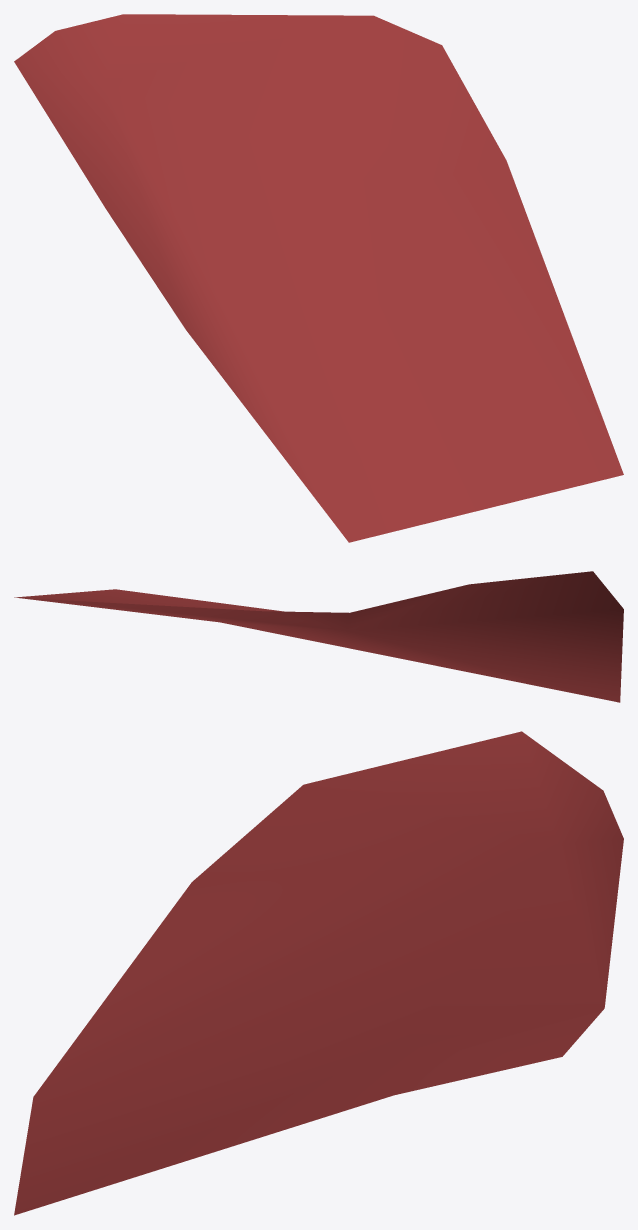
The model's file is extensor-indicis-er.glb.
3 renders of one model, top to bottom at view 1: azimuth 30°, elevation 25°; view 2: azimuth 150°, elevation 25°; view 3: azimuth 270°, elevation 25°, orthographic. The views are drawn at different scales.
Visible parts, largest first — view 1: Extensor indicis.er; view 2: Extensor indicis.er; view 3: Extensor indicis.er.
Boxes of the visible parts, bbox=[...] form: Extensor indicis.er: bbox=[14, 14, 623, 542]; Extensor indicis.er: bbox=[14, 571, 623, 702]; Extensor indicis.er: bbox=[14, 731, 623, 1215].
Bounding box in the file's own units: 0.00329 × 0.00218 × 0.00374.
